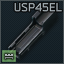HK USP .45 ACP Elite compensator: (0, 0, 64, 64)
